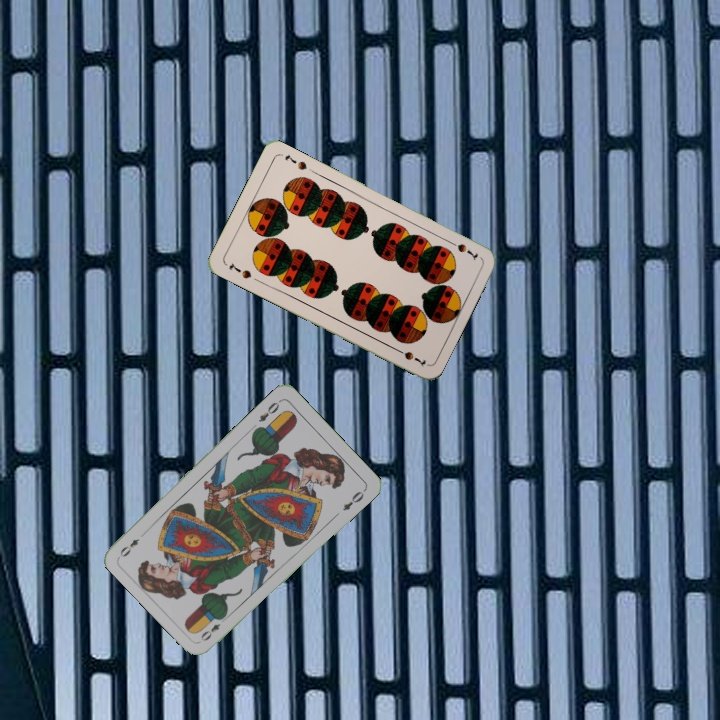EO: (196, 612, 229, 644), (254, 396, 284, 425)
S7: (445, 236, 481, 263), (225, 258, 254, 281)
